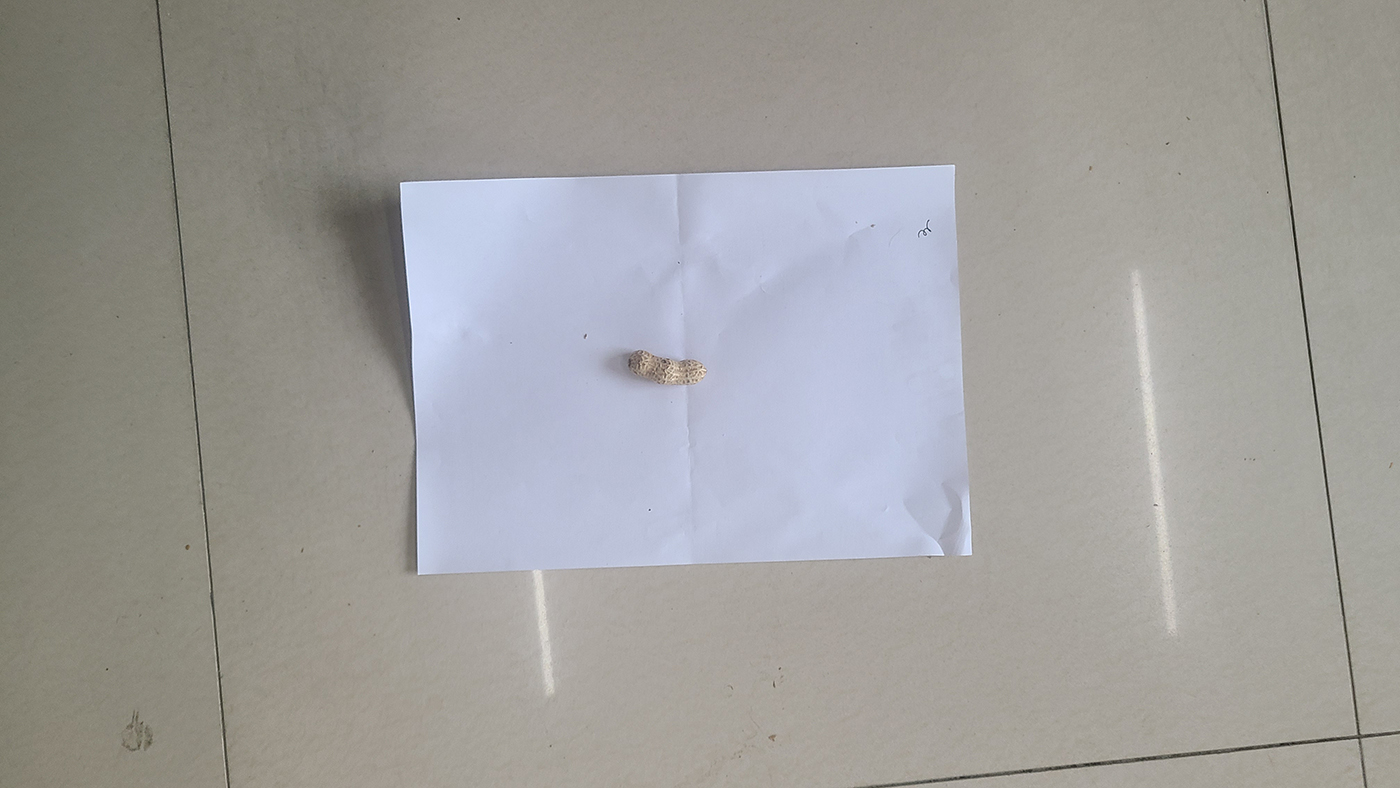h: (627, 349, 706, 384)
